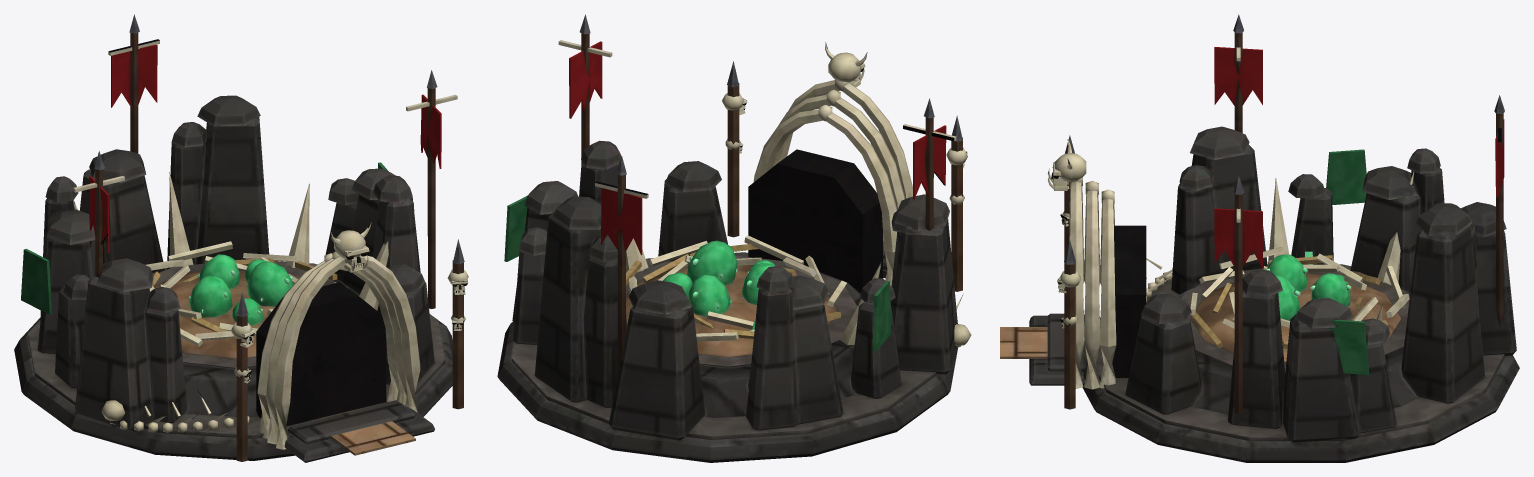
The model's file is serpent_nest.glb.
3 views of the same model, side by side, from view 1: azimuth 30°, elevation 25°; view 2: azimuth 150°, elevation 25°; view 3: azimuth 270°, elevation 25° (orthographic). The views are drawn at different scales.
Visible parts, largest first — view 1: Static_Mesh, Anim_Banners; view 2: Static_Mesh, Anim_Banners; view 3: Static_Mesh, Anim_Banners.
Boxes of the visible parts, x1=… form: Static_Mesh: x1=14, y1=14, x2=468, y2=462; Anim_Banners: x1=89, y1=44, x2=441, y2=252; Static_Mesh: x1=497, y1=14, x2=971, y2=462; Anim_Banners: x1=569, y1=41, x2=946, y2=255; Static_Mesh: x1=1000, y1=14, x2=1519, y2=462; Anim_Banners: x1=1214, y1=47, x2=1504, y2=268.
Bounding box in the file's own units: 6.9 × 4.8 × 8.17.
2 materials, 2 textured.
